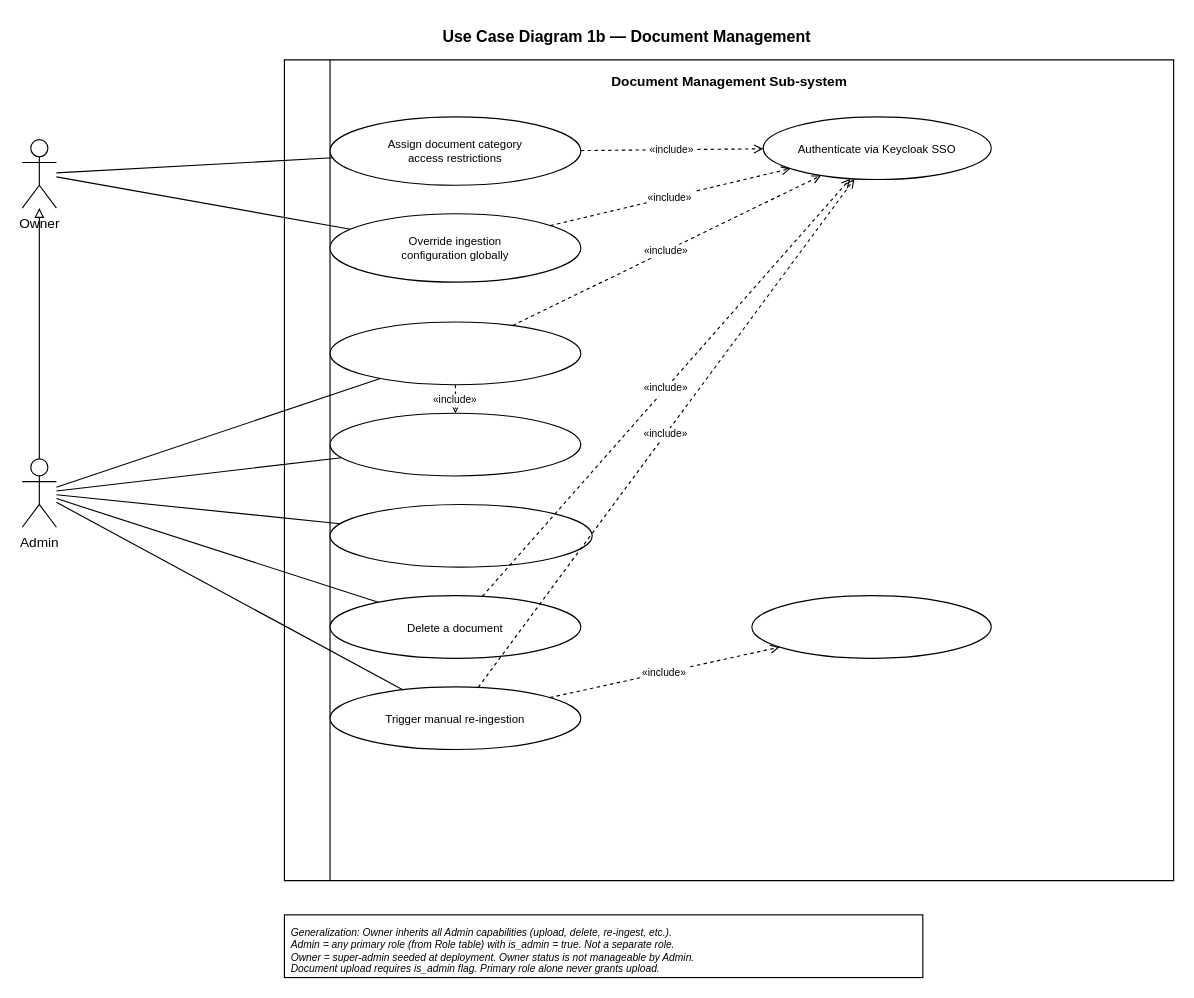
The diagram is 1194 pixels wide and 998 high, and some of its shapes have lost their labels. Each missing label, with the centre of its shape:
"Monitor ingestion job status" goes at pixel 871 626.
"Set document restricted flag" goes at pixel 455 444.
"Upload document to category" goes at pixel 455 353.
"View document list and ingestion status" goes at pixel 460 535.
